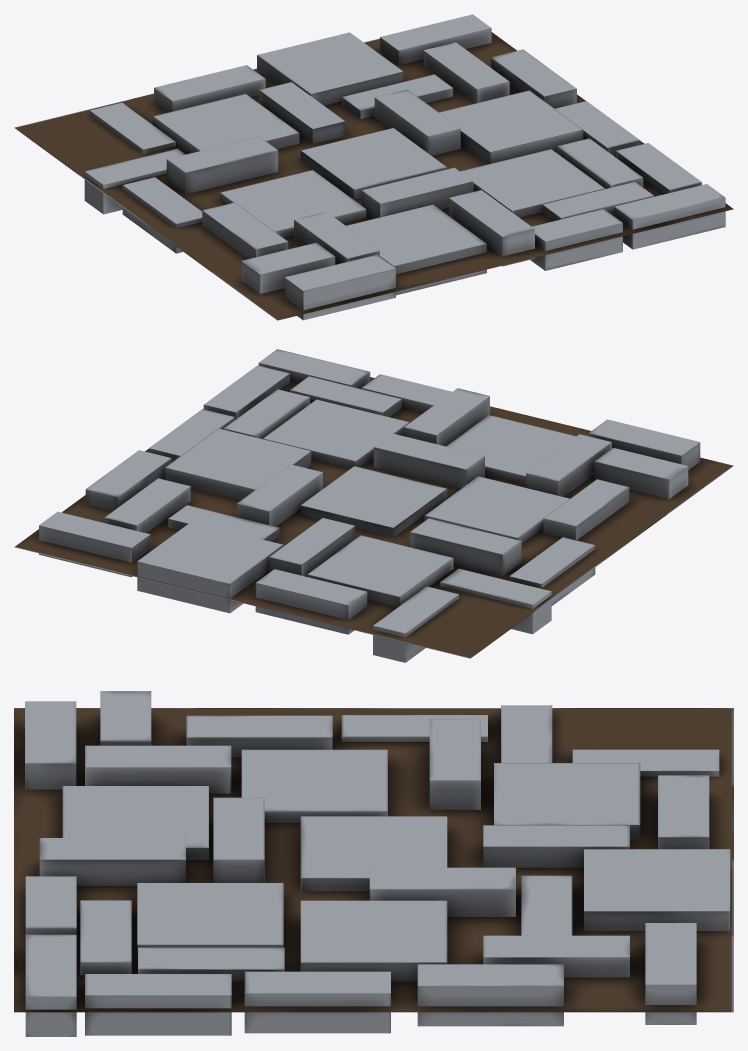
The model's file is Path.fbx.
The picture shows the model from 3 angles, top to bottom: view 1: azimuth 30°, elevation 25°; view 2: azimuth 150°, elevation 25°; view 3: azimuth 270°, elevation 25°; orthographic projection. The views are drawn at different scales.
Parts seen in each view (by area): view 1: Path; view 2: Path; view 3: Path.
Part boxes in pixels (box(x1,y1,x2,y2)): Path: box(14, 14, 733, 320); Path: box(14, 349, 733, 662); Path: box(14, 691, 733, 1036).
Bounding box in the file's own units: 200 × 19.67 × 200.
Materials: 1 (1 with a texture image).
